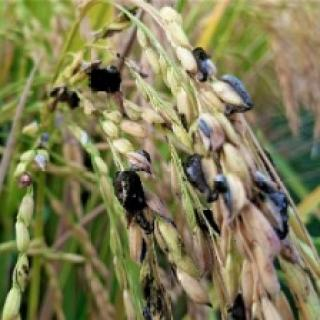Gosong-Palsu: (243, 171, 293, 245), (114, 166, 154, 221), (216, 70, 255, 122), (84, 54, 122, 95), (180, 151, 212, 191), (225, 284, 260, 320), (192, 206, 222, 242), (49, 85, 83, 116)
